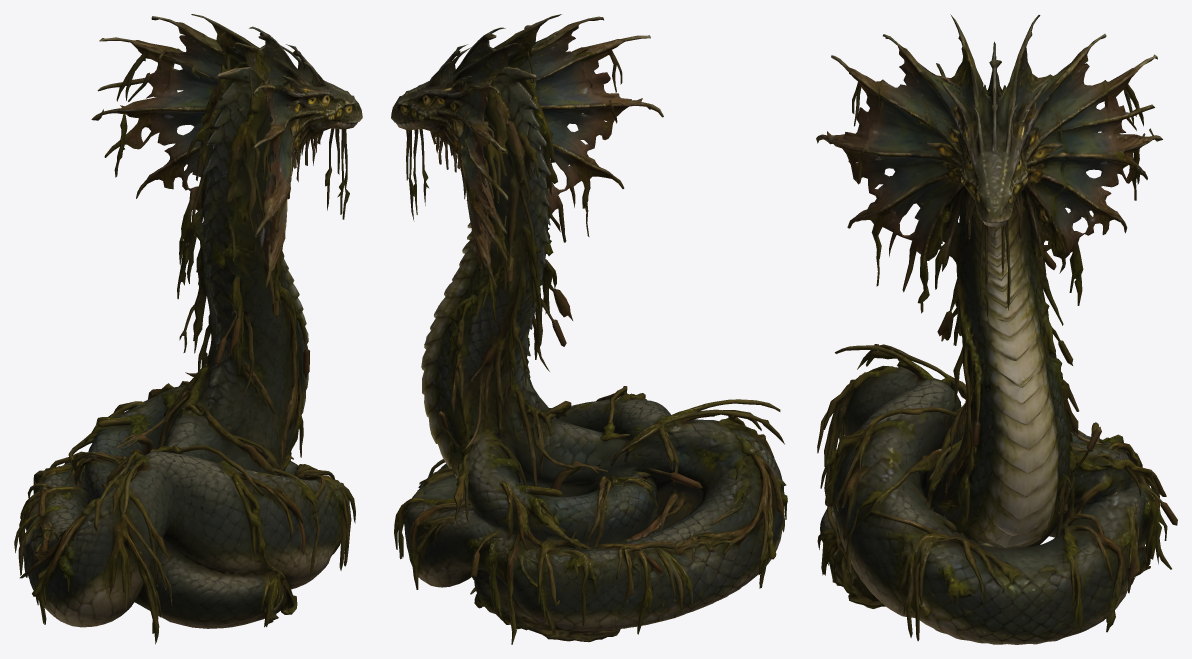
File: CoilMother-tripo.glb
The picture shows the model from 3 angles, left to right: view 1: azimuth 30°, elevation 25°; view 2: azimuth 150°, elevation 25°; view 3: azimuth 270°, elevation 25°; orthographic projection. The views are drawn at different scales.
Parts seen in each view (by area): view 1: tripo_node_cda889da-dee4-4564-b497-2ff6f47b7e37; view 2: tripo_node_cda889da-dee4-4564-b497-2ff6f47b7e37; view 3: tripo_node_cda889da-dee4-4564-b497-2ff6f47b7e37.
Boxes of the visible parts, x1,y1,x2,y2 form: tripo_node_cda889da-dee4-4564-b497-2ff6f47b7e37: [14, 14, 362, 644]; tripo_node_cda889da-dee4-4564-b497-2ff6f47b7e37: [391, 14, 787, 644]; tripo_node_cda889da-dee4-4564-b497-2ff6f47b7e37: [816, 14, 1177, 644].
Bounding box in the file's own units: 0.6868 × 1 × 0.5616.
1 material, 1 textured.
